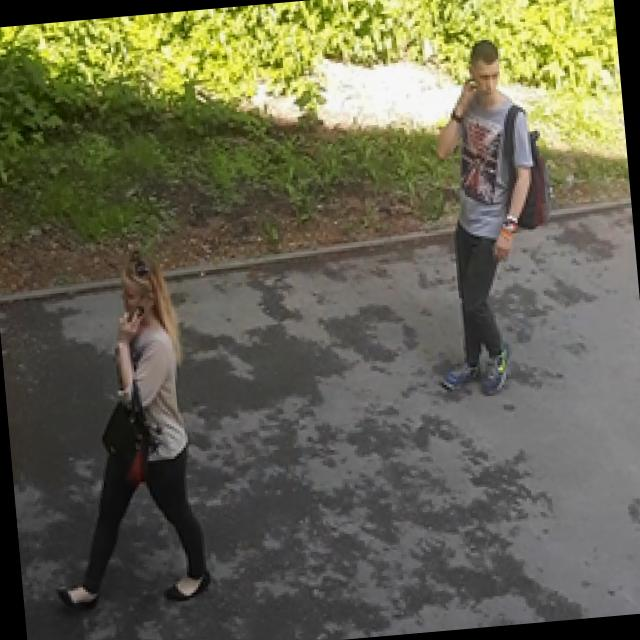person: (25, 246, 214, 612), (412, 35, 566, 400)
